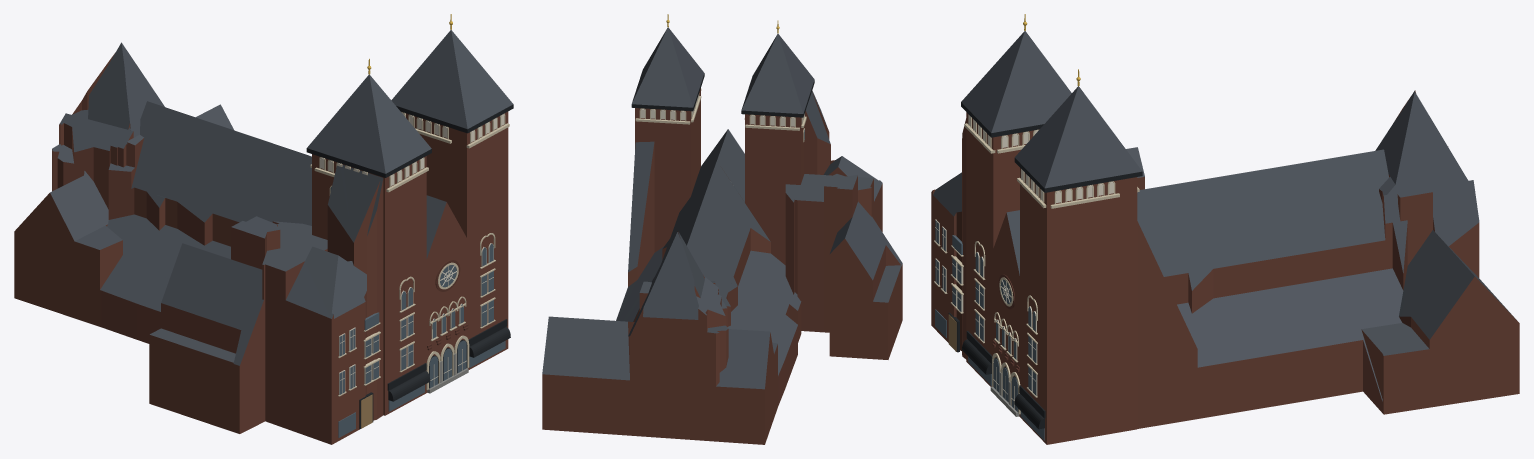
Rendered from fatih-moskee.glb.
3 renders of one model, left to right at view 1: azimuth 30°, elevation 25°; view 2: azimuth 150°, elevation 25°; view 3: azimuth 270°, elevation 25°, orthographic. The views are drawn at different scales.
Visible parts, largest first — view 1: fatih-moskee; view 2: fatih-moskee; view 3: fatih-moskee.
Boxes of the visible parts, x1=… form: fatih-moskee: x1=14, y1=14, x2=513, y2=444; fatih-moskee: x1=542, y1=14, x2=902, y2=444; fatih-moskee: x1=931, y1=14, x2=1519, y2=444.
Bounding box in the file's own units: 40.43 × 39.1 × 58.95.
